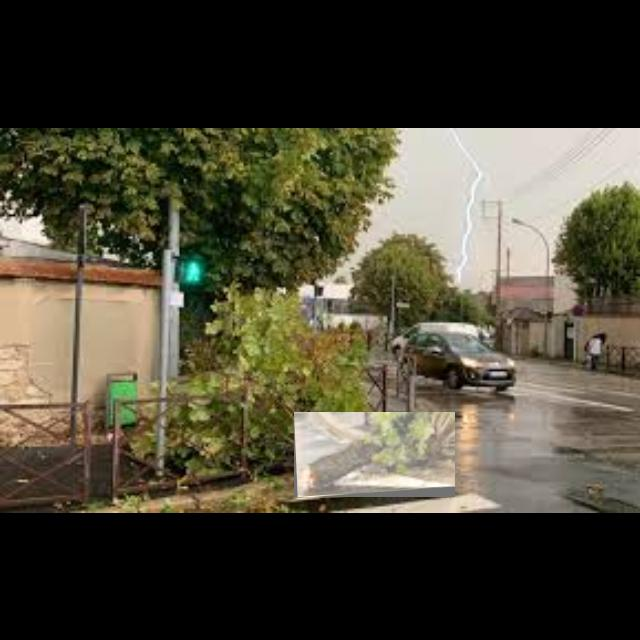Fallen Tree: (294, 412, 456, 498)
